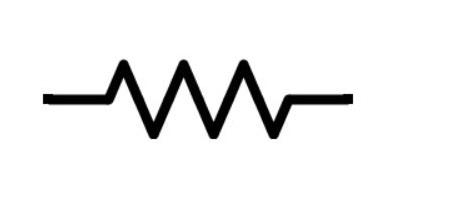resistor: (87, 50, 333, 151)
